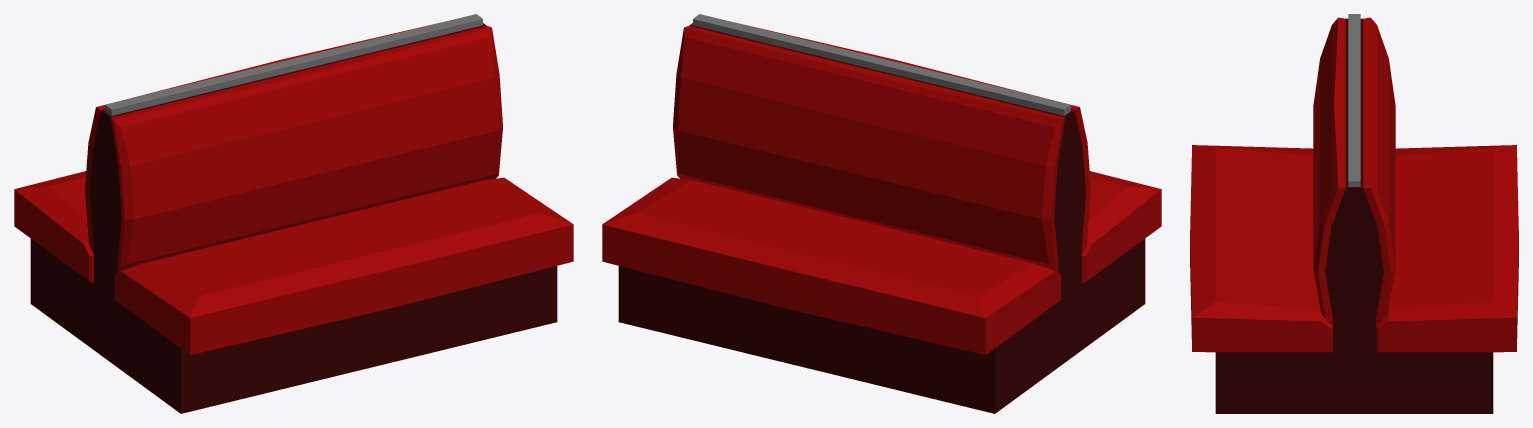
Rendered from BoothDouble.fbx.
3 views of the same model, side by side, from view 1: azimuth 30°, elevation 25°; view 2: azimuth 150°, elevation 25°; view 3: azimuth 270°, elevation 25° (orthographic). The views are drawn at different scales.
Visible parts, largest first — view 1: Booth Double.001; view 2: Booth Double.001; view 3: Booth Double.001.
Part boxes in pixels (bbox=[...]): Booth Double.001: bbox=[14, 14, 573, 413]; Booth Double.001: bbox=[602, 14, 1161, 413]; Booth Double.001: bbox=[1190, 14, 1518, 413].
Bounding box in the file's own units: 252 × 158 × 203.
